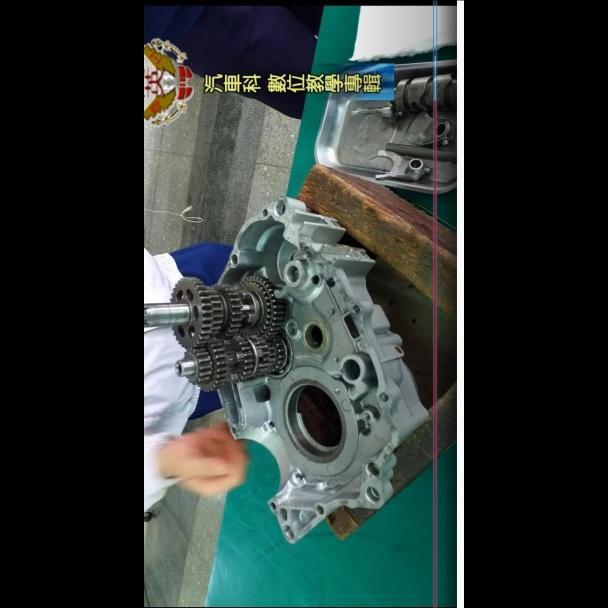hole: (366, 460, 381, 475), (351, 303, 363, 313), (363, 410, 372, 421), (333, 385, 341, 395), (332, 353, 340, 362), (329, 306, 336, 315)
